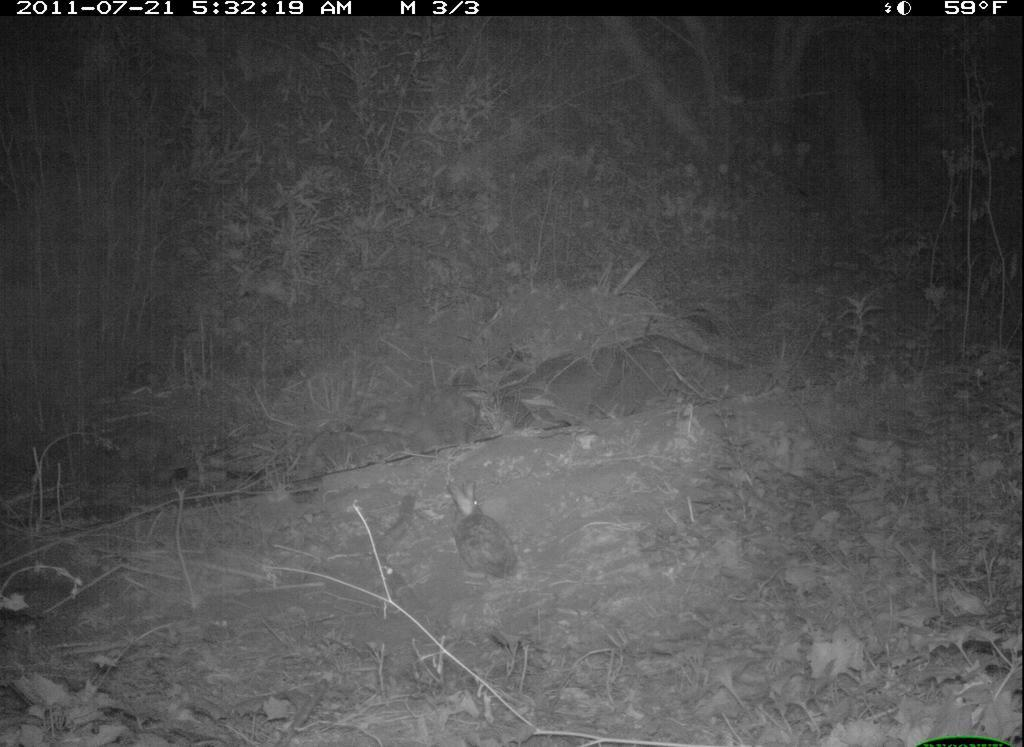rabbit: (442, 477, 526, 583)
